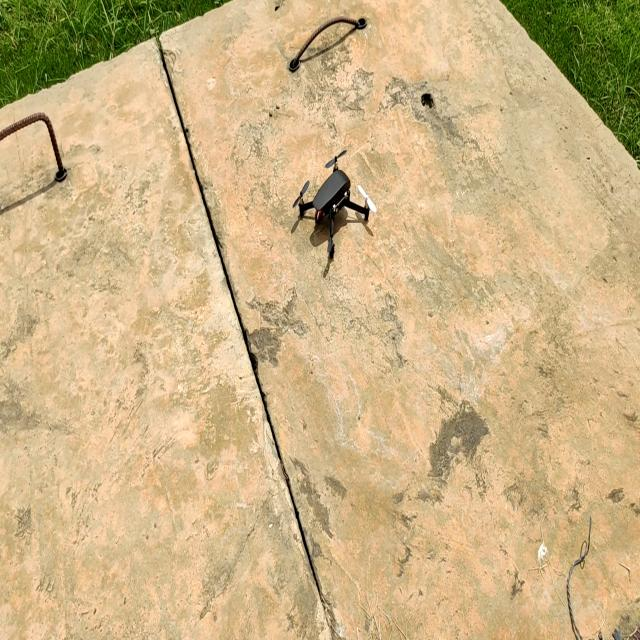drone: (287, 145, 382, 276)
